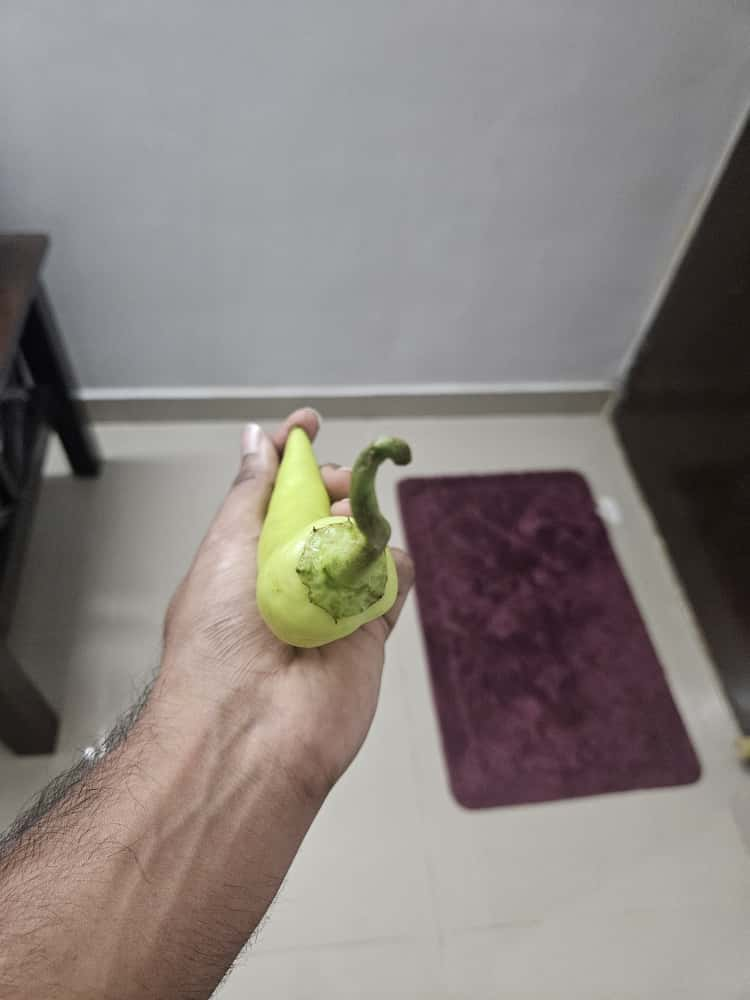wet: (196, 413, 454, 678)
